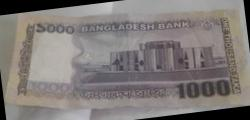1000 taka: (21, 16, 247, 106)
